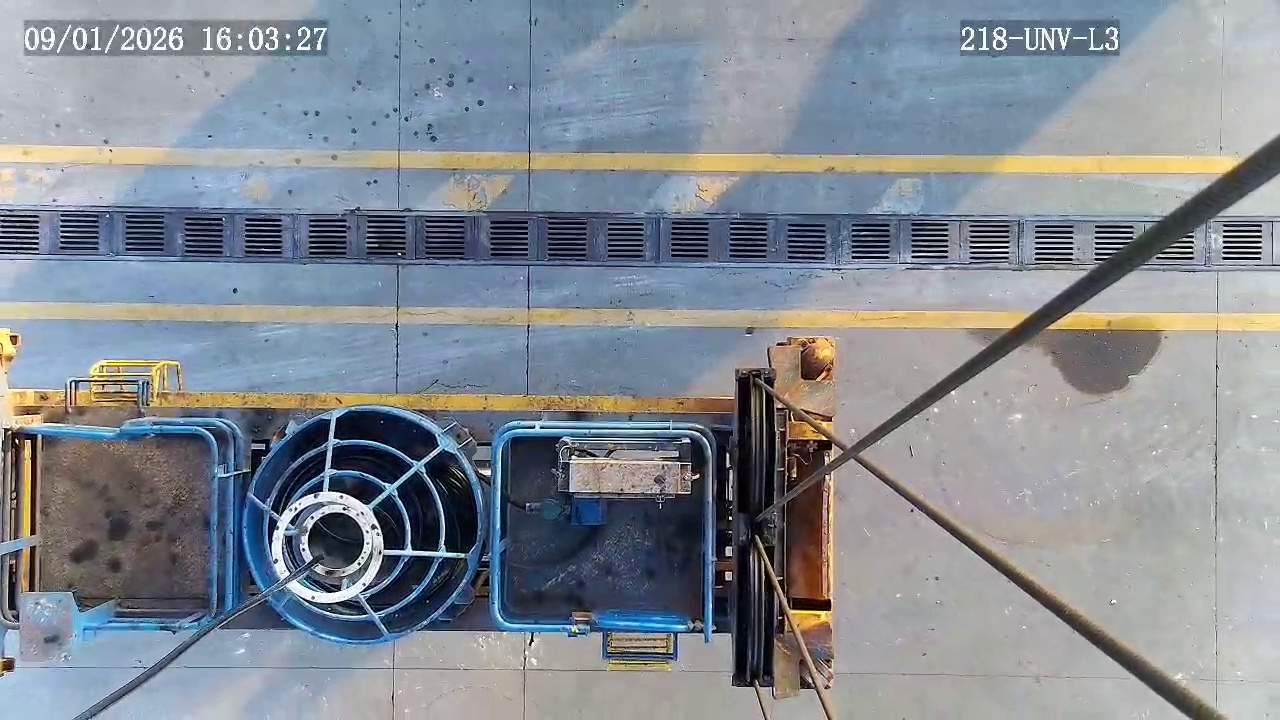right: (242, 406, 483, 641)
